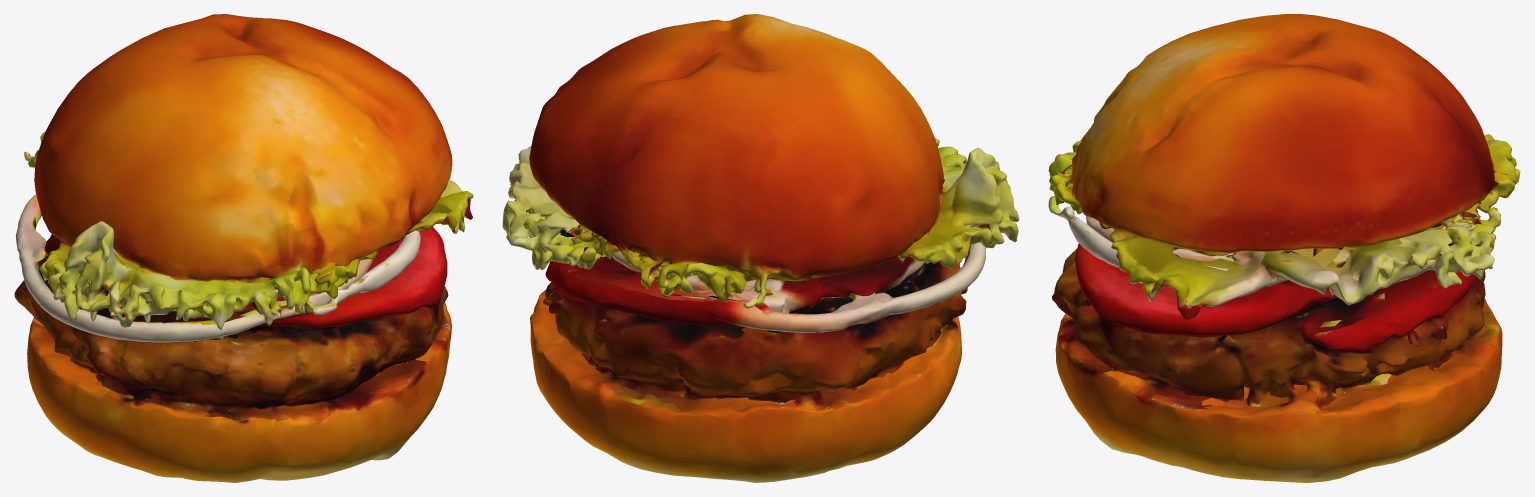
The model's file is burger.glb.
3 views of the same model, side by side, from view 1: azimuth 30°, elevation 25°; view 2: azimuth 150°, elevation 25°; view 3: azimuth 270°, elevation 25° (orthographic). The views are drawn at different scales.
Parts seen in each view (by area): view 1: tmp1ckoic33.ply; view 2: tmp1ckoic33.ply; view 3: tmp1ckoic33.ply.
Boxes of the visible parts, bbox=[...] form: tmp1ckoic33.ply: bbox=[14, 14, 473, 482]; tmp1ckoic33.ply: bbox=[502, 14, 1019, 482]; tmp1ckoic33.ply: bbox=[1048, 14, 1520, 482].
Bounding box in the file's own units: 0.1326 × 0.1107 × 0.1257.
Materials: 2 (2 with a texture image).
